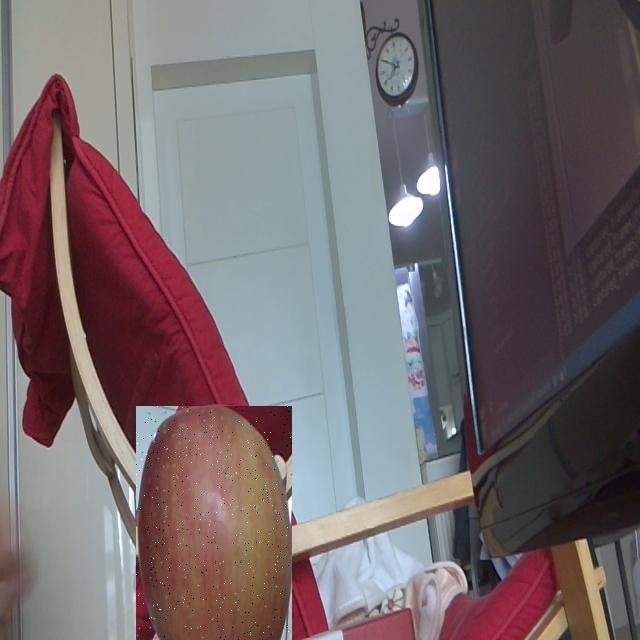apple: (136, 406, 292, 640)
